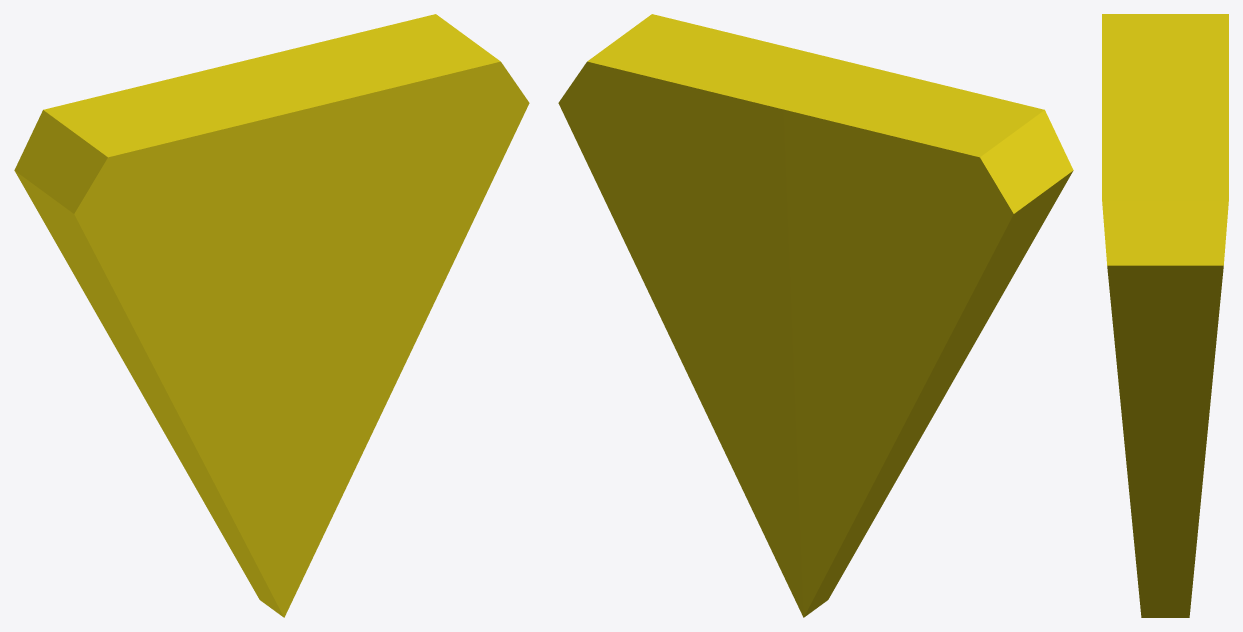
File: Flecha.fbx
3 views of the same model, side by side, from view 1: azimuth 30°, elevation 25°; view 2: azimuth 150°, elevation 25°; view 3: azimuth 270°, elevation 25° (orthographic). The views are drawn at different scales.
Visible parts, largest first — view 1: Cube; view 2: Cube; view 3: Cube.
Part boxes in pixels (left/top/right/bottom): Cube: left=14, top=14, right=529, bottom=617; Cube: left=558, top=14, right=1073, bottom=617; Cube: left=1102, top=14, right=1228, bottom=617.
Bounding box in the file's own units: 2.61 × 0.6454 × 2.87.
